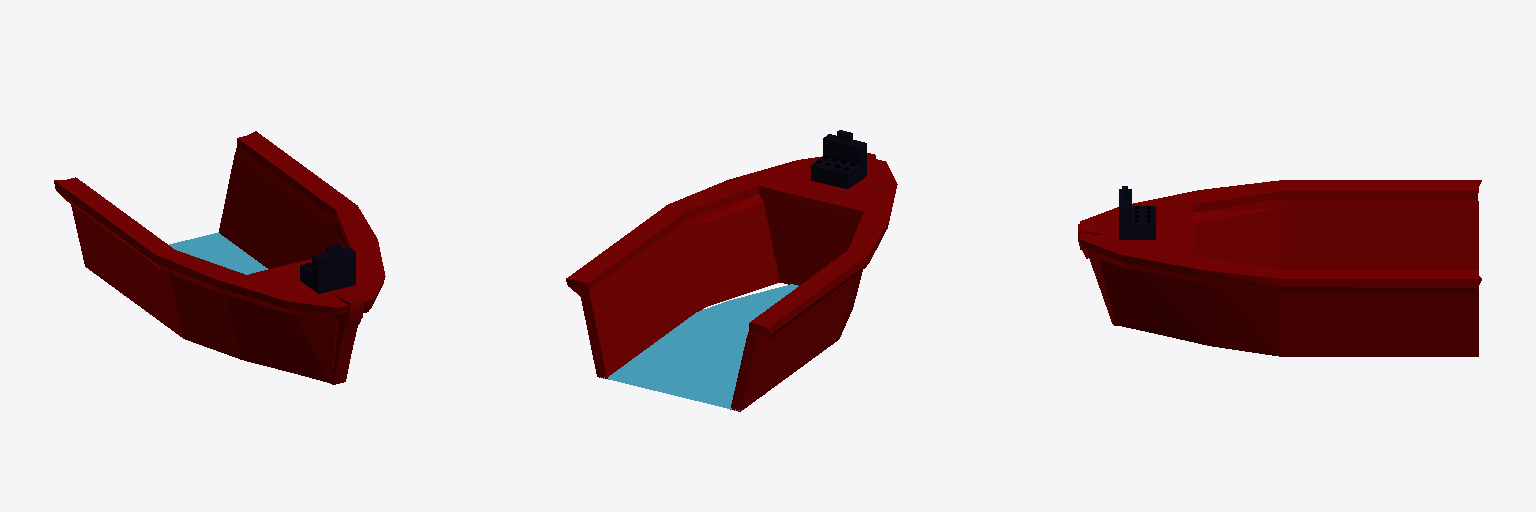
File: perahu.obj
3 views of the same model, side by side, from view 1: azimuth 30°, elevation 25°; view 2: azimuth 150°, elevation 25°; view 3: azimuth 270°, elevation 25° (orthographic).
Visible parts, largest first — view 1: Cube.073_Cube.258, Cube.074_Cube.259, Cube.009_Cube.194, Cube.007_Cube.192; view 2: Cube.073_Cube.258, Cube.074_Cube.259, Cube.007_Cube.192, Cube.009_Cube.194; view 3: Cube.073_Cube.258, Cube.074_Cube.259, Cube.009_Cube.194.
Boxes of the visible parts, x1,y1,x2,y2 form: Cube.073_Cube.258: [71, 155, 357, 383]; Cube.074_Cube.259: [54, 131, 385, 384]; Cube.009_Cube.194: [300, 243, 355, 293]; Cube.007_Cube.192: [169, 232, 267, 274]; Cube.073_Cube.258: [581, 203, 862, 411]; Cube.074_Cube.259: [566, 153, 897, 339]; Cube.007_Cube.192: [600, 284, 798, 410]; Cube.009_Cube.194: [811, 130, 866, 188]; Cube.073_Cube.258: [1099, 208, 1478, 356]; Cube.074_Cube.259: [1078, 180, 1481, 325]; Cube.009_Cube.194: [1119, 186, 1155, 239].
Size of the model in its own units: 6.25 by 3.94 by 10.82.